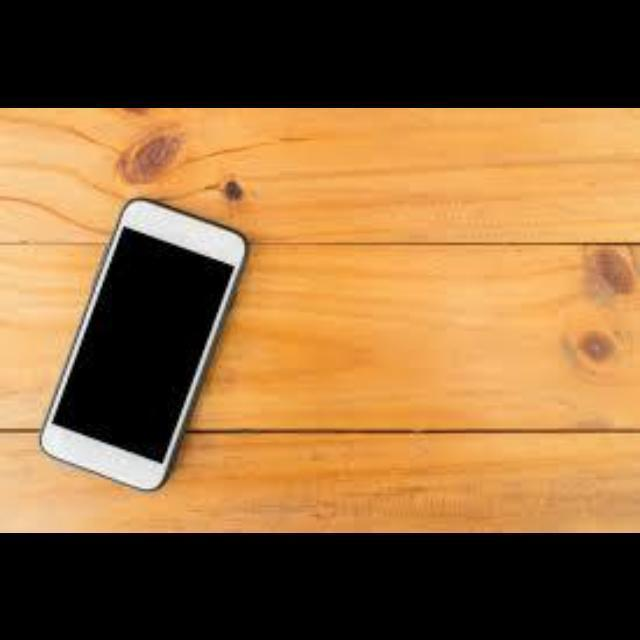phone: (42, 200, 238, 487)
